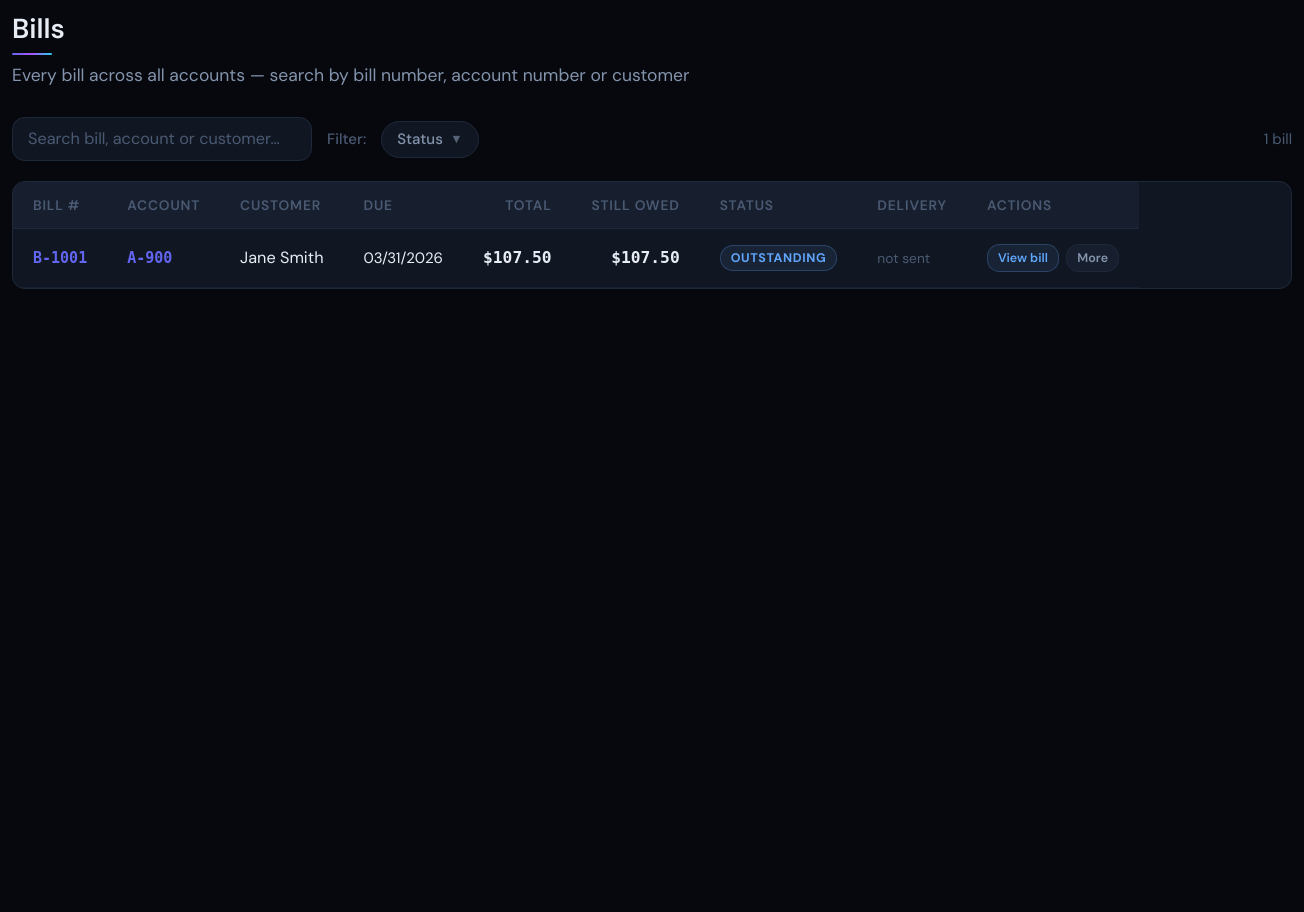
Test: Bills page — bill document actions › surfaces the missing issuer fields when a bill cannot be generated
The width and height of the screenshot is (1304, 912).
Click the button "View bill".
click(1023, 258)  # box [987,244,1059,272]
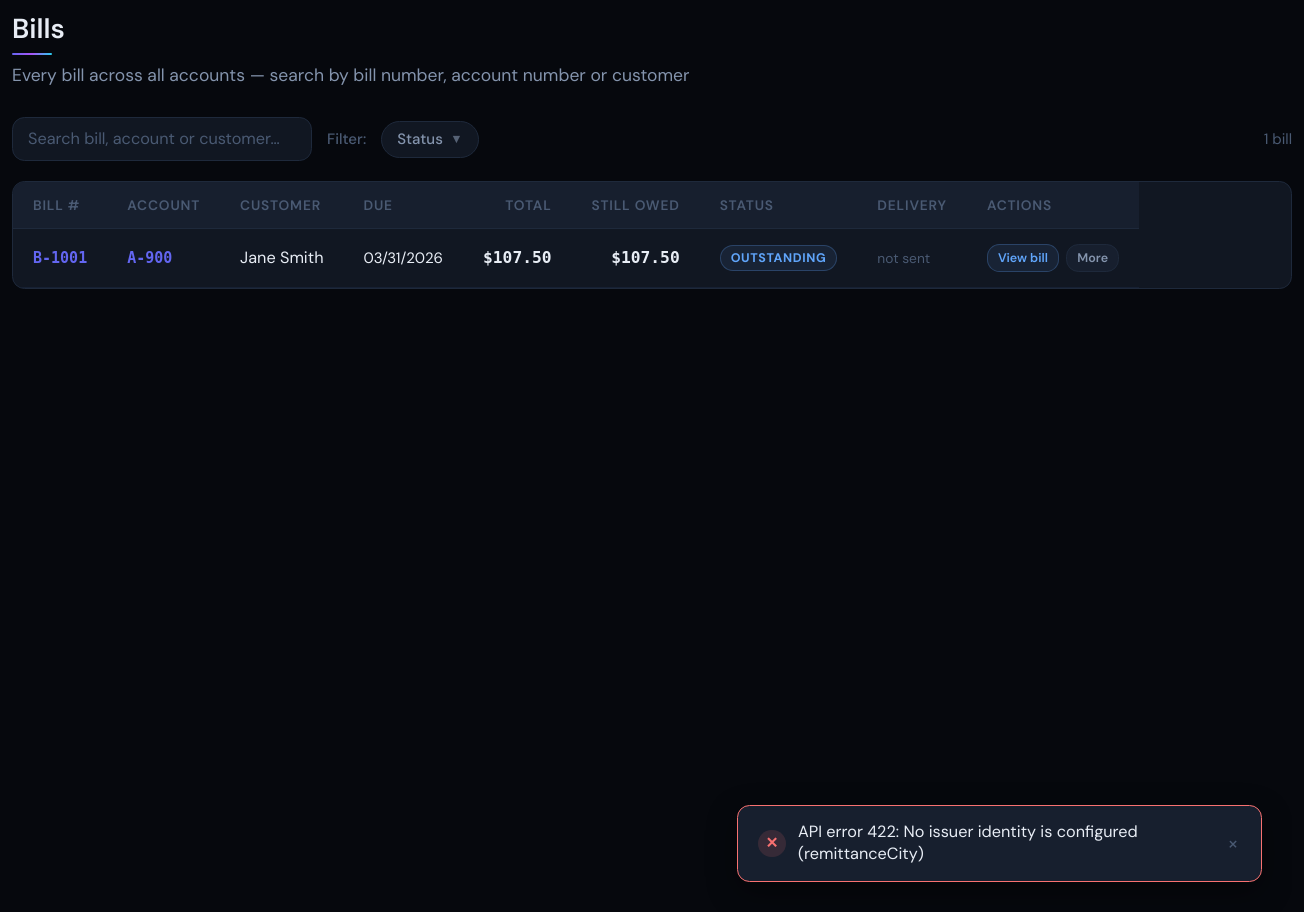
Expected: the text "remittanceCity" is shown, [798,820,1138,864]
